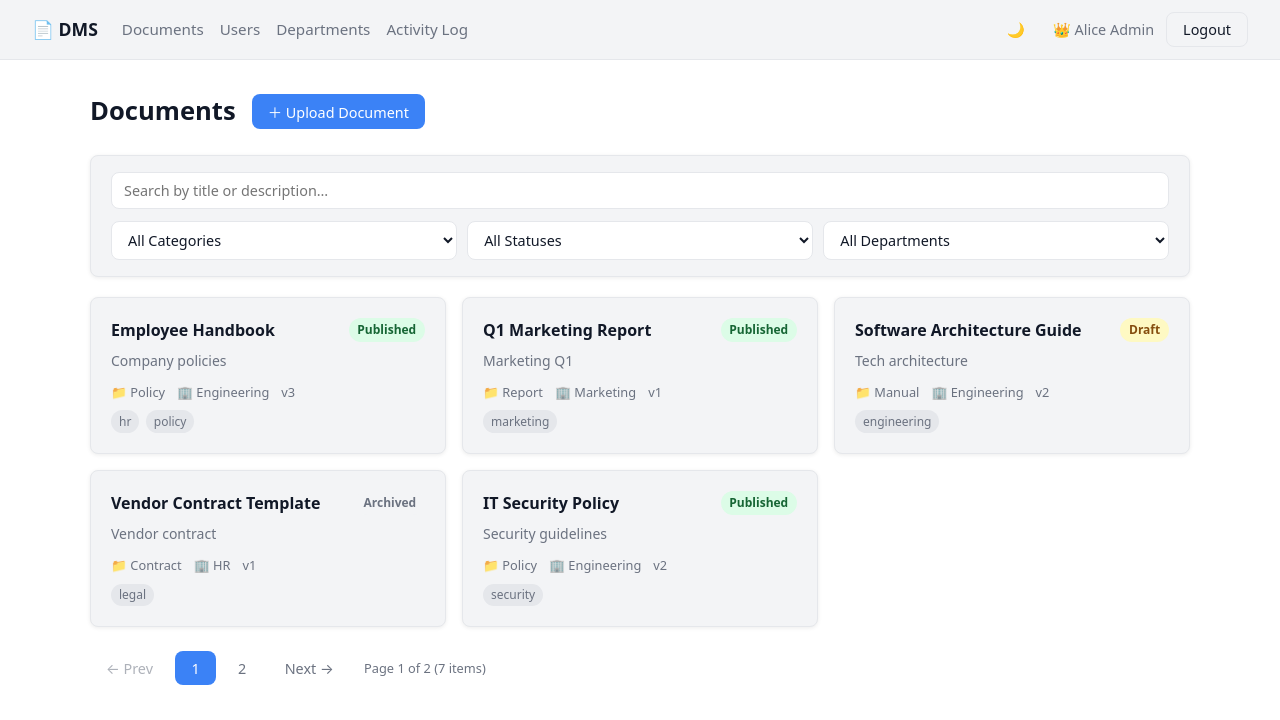
Test case: Document List Page › filters documents by category
The image size is (1280, 720).
Select "Policy" in the dropdown with test id "category-filter": (284, 241) [111,221,457,260]
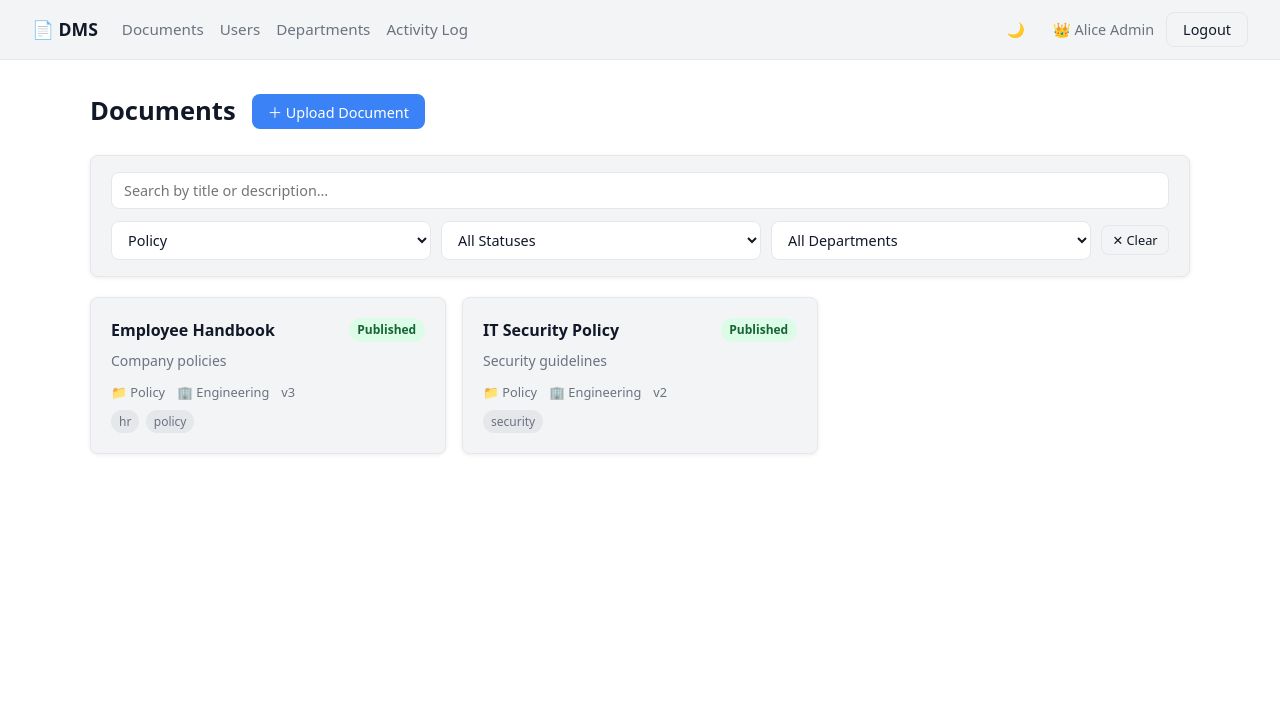
Expected: the link "Employee Handbook" is shown, [90,297,446,454]
Now the number of links with test id "document-card" is at least 1
Now the link "Q1 Marketing Report" is gone
